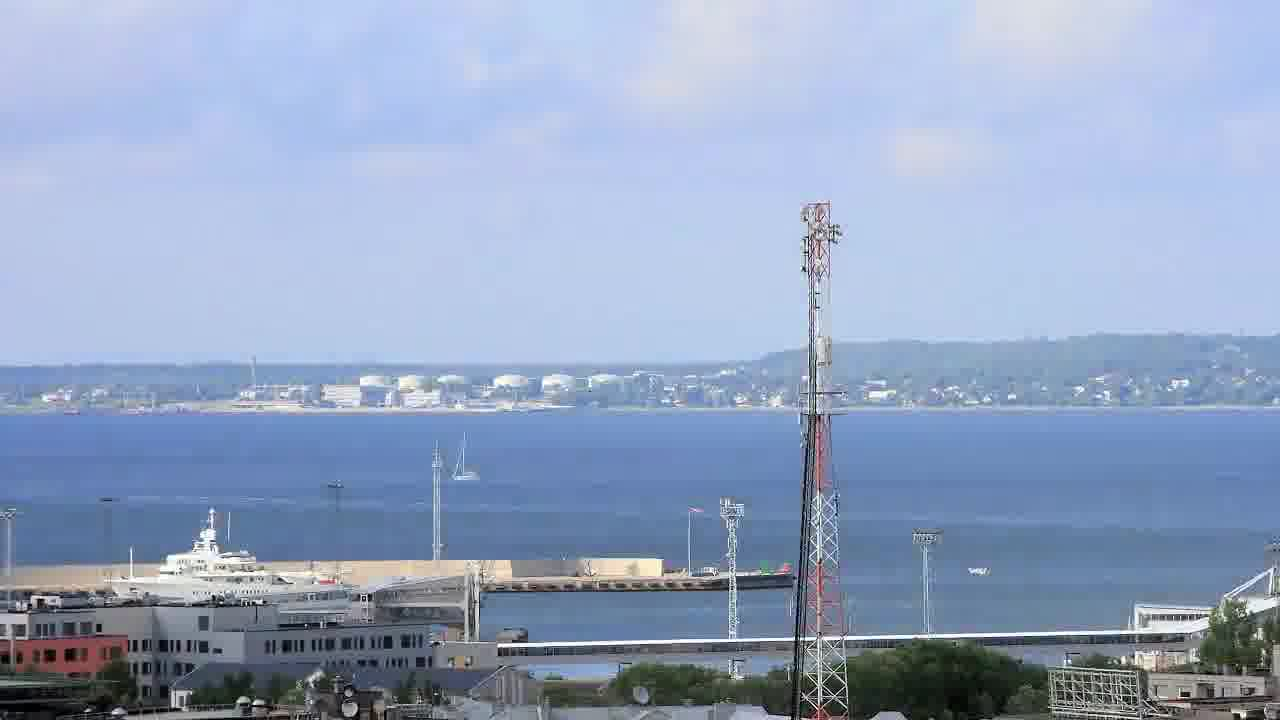type-2: (435, 429, 499, 490)
type-3: (96, 508, 381, 605)
type-4: (963, 553, 1018, 599)
